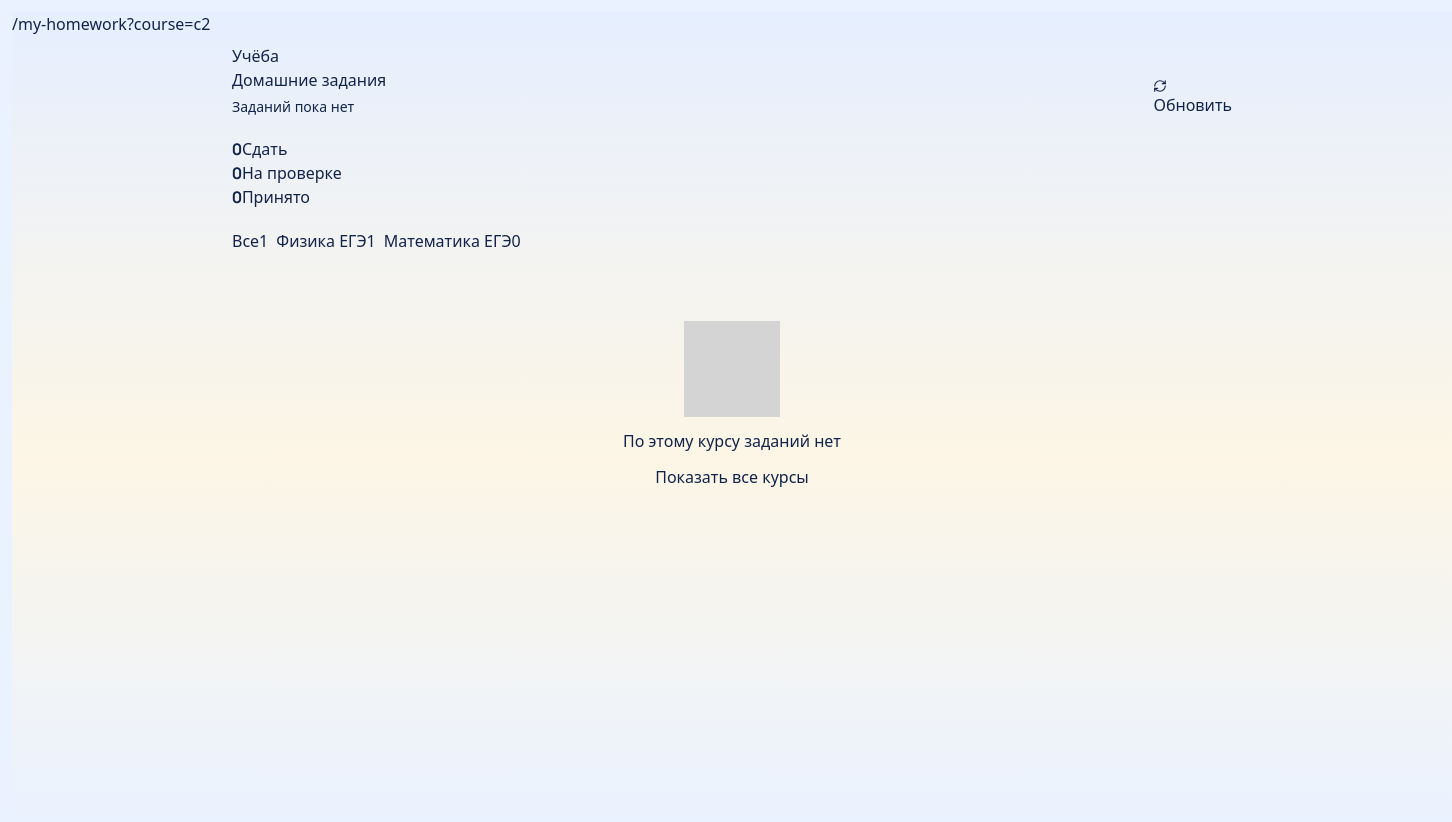
Scenario: MyTopicHomeworkPage — список ДЗ ученика › пустой результат отбора говорит словами, а не пустым экраном
Expected: the text with test id "my-hw-empty-filter" reads "По этому курсу заданий нет", [623, 430, 841, 452]
# И выход обратно: заглушка не должна быть тупиком.
Step 1. Click the button "Показать все курсы" → (732, 477), box [655, 465, 809, 489]
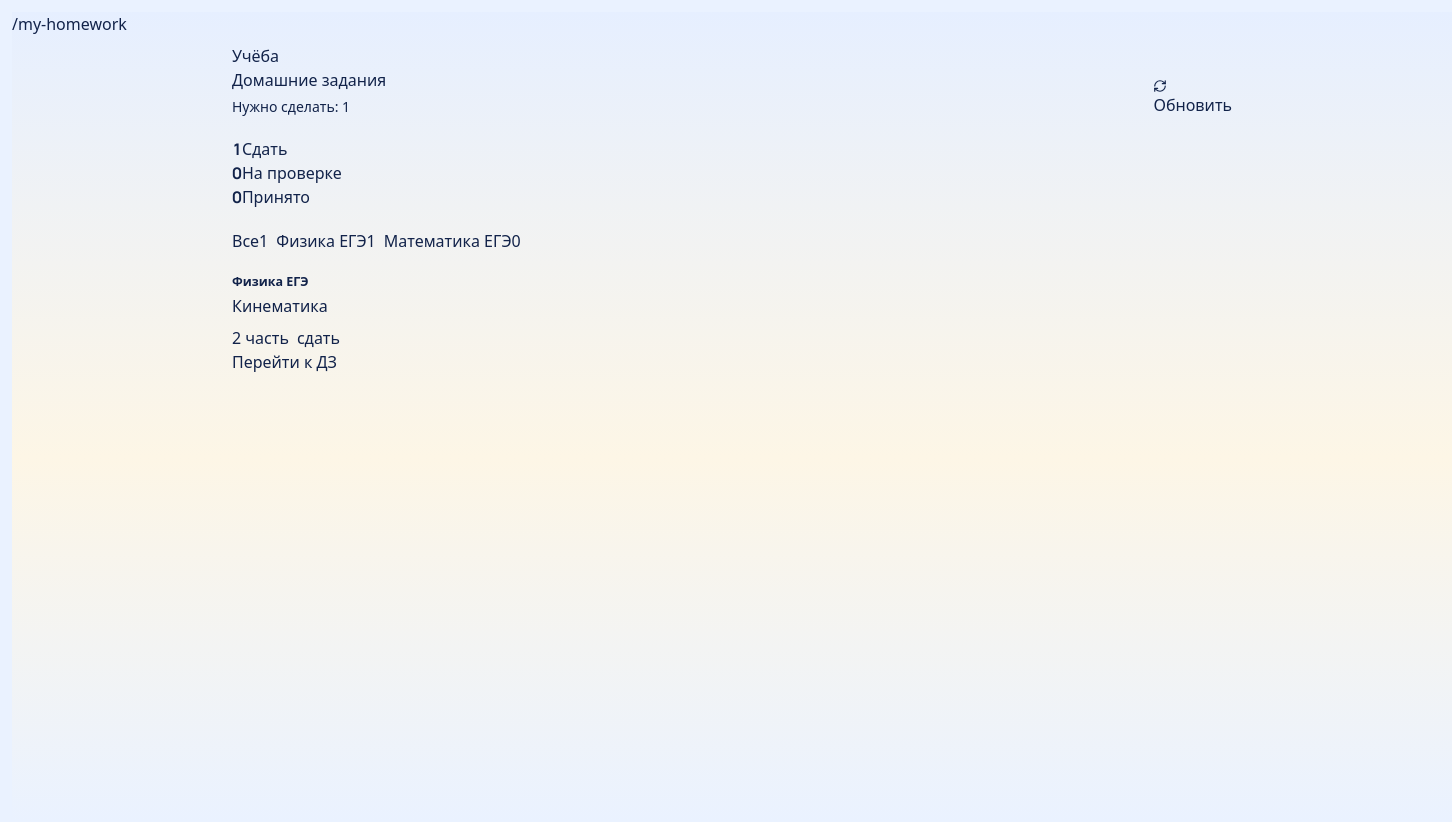
Expected: the text with test id "address" reads "/my-homework", [12, 13, 127, 35]
Expected: the heading "Кинематика" is shown, [232, 295, 328, 317]
